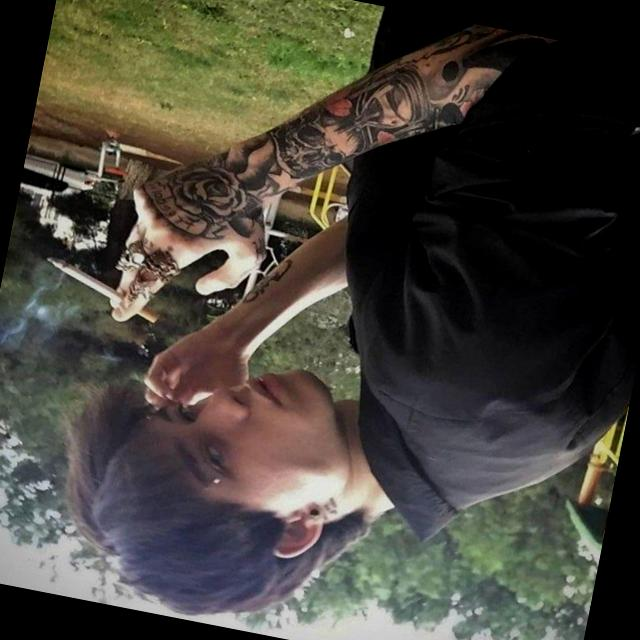smoke: (6, 239, 189, 333)
